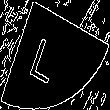L_NE: (36, 26, 74, 84)
